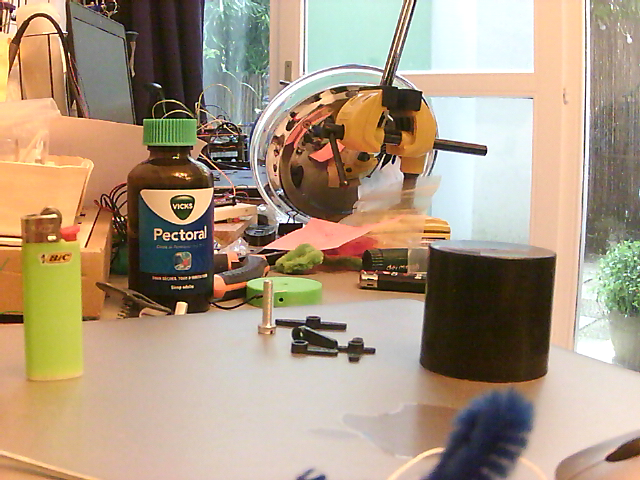bolt: (257, 278, 277, 339)
lighter: (20, 209, 87, 384)
